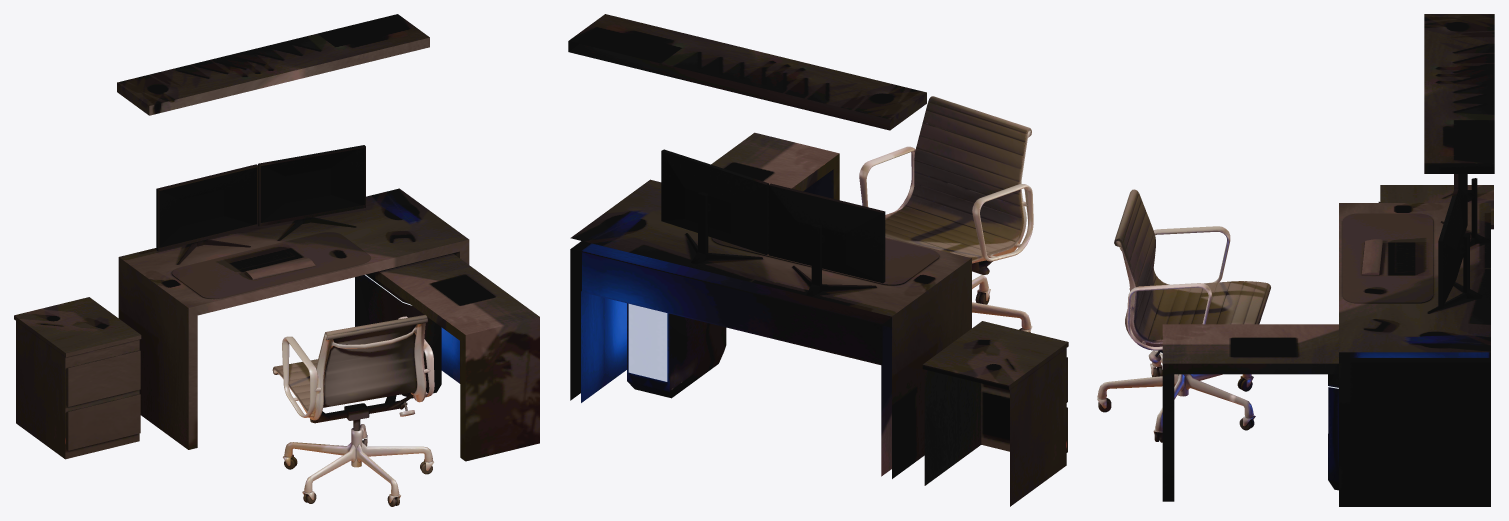
File: room2.glb
3 views of the same model, side by side, from view 1: azimuth 30°, elevation 25°; view 2: azimuth 150°, elevation 25°; view 3: azimuth 270°, elevation 25° (orthographic). The views are drawn at different scales.
Parts seen in each view (by area): view 1: BAKED_2, BAKED_2.001, RightMonitor, LeftMonitor; view 2: BAKED_2, BAKED_2.001, LeftMonitor, RightMonitor; view 3: BAKED_2, BAKED_2.001, RightMonitor, LeftMonitor.
Part boxes in pixels (box(x1,y1,x2,y2)): BAKED_2: box(14, 14, 539, 506); BAKED_2.001: box(272, 315, 434, 430); RightMonitor: box(258, 145, 365, 240); LeftMonitor: box(156, 164, 258, 264); BAKED_2: box(568, 14, 1068, 506); BAKED_2.001: box(859, 96, 1033, 274); LeftMonitor: box(768, 183, 885, 296); RightMonitor: box(661, 149, 768, 264); BAKED_2: box(1097, 14, 1494, 506); BAKED_2.001: box(1114, 189, 1270, 363); RightMonitor: box(1427, 188, 1482, 313); LeftMonitor: box(1441, 174, 1489, 245).
Size of the model in its own units: 5.37 by 4.23 by 4.41.
1 material, 1 textured.
